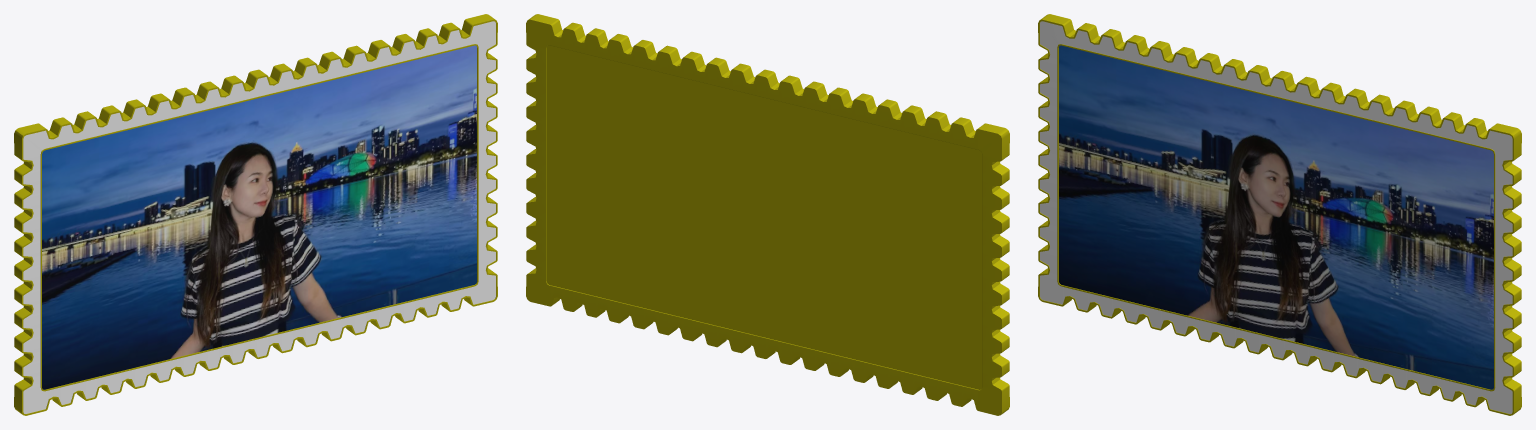
File: BXT_Tao.glb
The picture shows the model from 3 angles, left to right: view 1: azimuth 30°, elevation 25°; view 2: azimuth 150°, elevation 25°; view 3: azimuth 330°, elevation 25°; orthographic projection.
Visible parts, largest first — view 1: pCube1, pCube3; view 2: pCube3; view 3: pCube1, pCube3.
Boxes of the visible parts, x1=… form: pCube1: x1=42, y1=45, x2=476, y2=389; pCube3: x1=14, y1=14, x2=497, y2=415; pCube3: x1=526, y1=14, x2=1009, y2=415; pCube1: x1=1059, y1=45, x2=1493, y2=389; pCube3: x1=1038, y1=14, x2=1521, y2=415.
Bounding box in the file's own units: 0.2117 × 0.1199 × 0.00598.
Materials: 3 (1 with a texture image).
